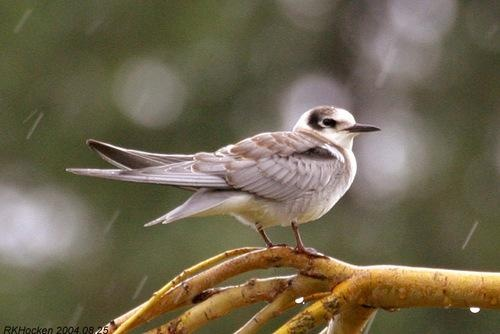bird: (58, 104, 386, 259)
